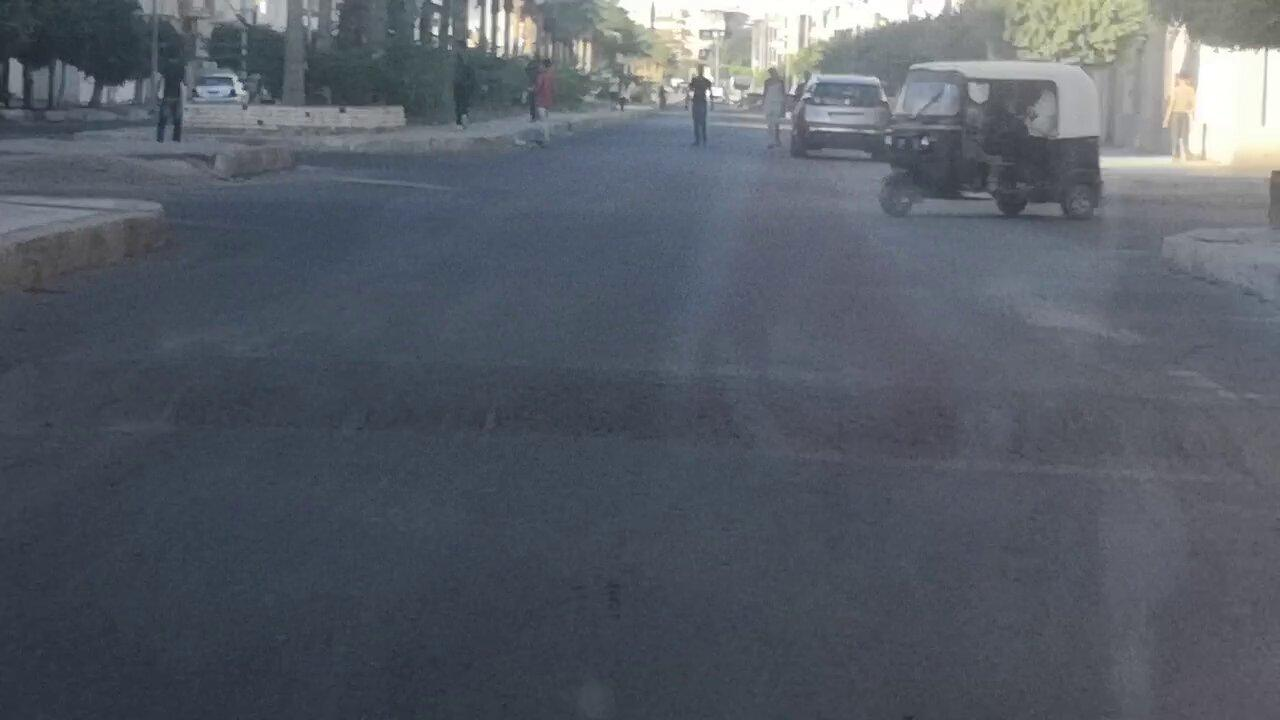Bump: (33, 341, 1280, 503)
